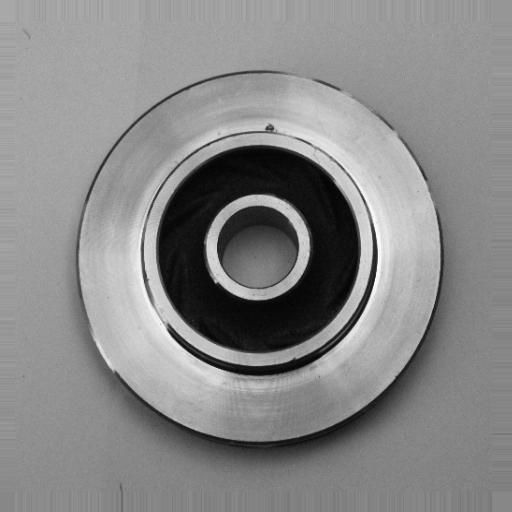crack: (259, 115, 283, 139)
unpolished_casting: (75, 65, 446, 447)
